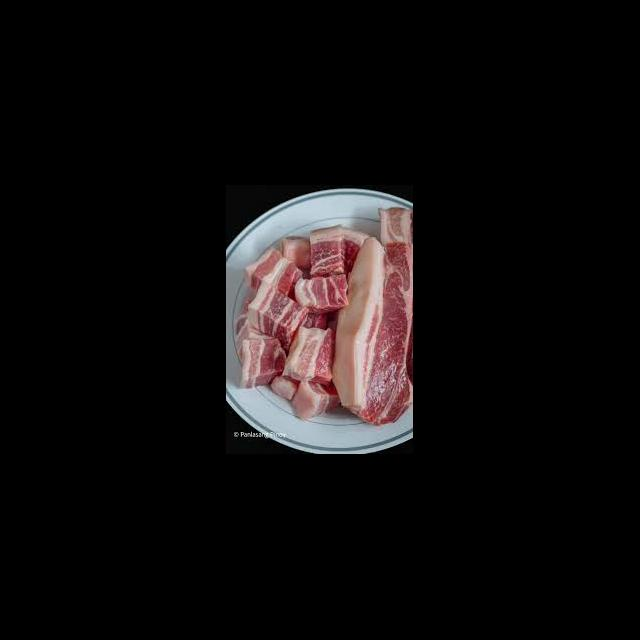pork: (338, 237, 414, 425), (246, 283, 304, 343), (282, 324, 332, 385), (236, 334, 283, 389), (244, 249, 301, 294), (295, 274, 350, 312), (308, 226, 349, 274), (291, 380, 340, 419)
